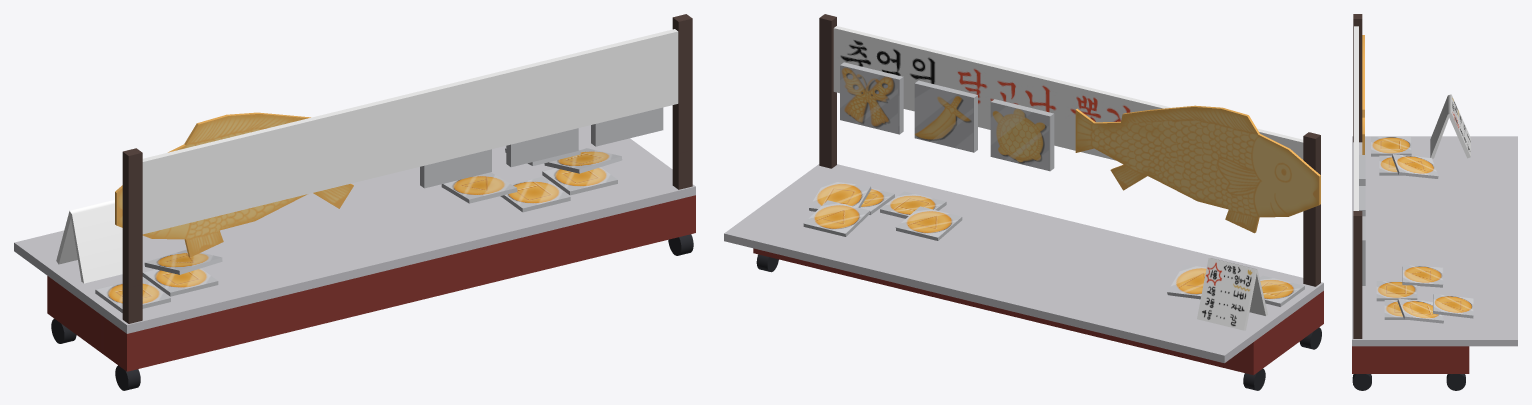
Rendered from fbx_dalgonaShop.fbx.
3 views of the same model, side by side, from view 1: azimuth 30°, elevation 25°; view 2: azimuth 150°, elevation 25°; view 3: azimuth 270°, elevation 25° (orthographic). The views are drawn at different scales.
Visible parts, largest first — view 1: DalgonaShop; view 2: DalgonaShop; view 3: DalgonaShop.
Boxes of the visible parts, x1=… form: DalgonaShop: x1=14, y1=14, x2=695, y2=390; DalgonaShop: x1=724, y1=14, x2=1323, y2=390; DalgonaShop: x1=1352, y1=14, x2=1517, y2=390.
Bounding box in the file's own units: 4.14 × 1.72 × 1.42.
Materials: 1 (1 with a texture image).
